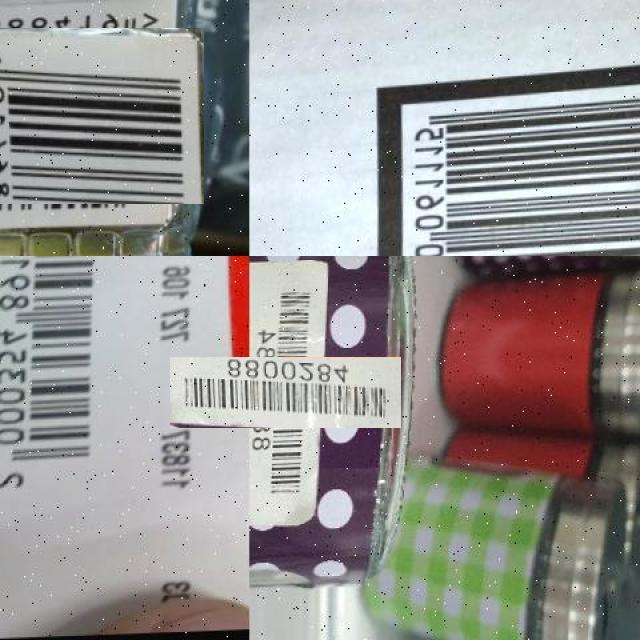Barcode: (392, 83, 640, 256), (0, 13, 190, 218), (0, 256, 135, 515), (210, 317, 361, 468)
